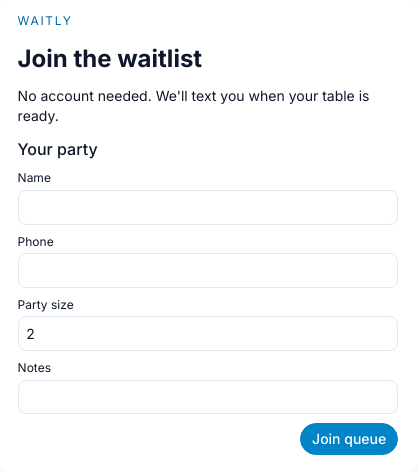
Test: guest join page › lets a guest join the waitlist
This screenshot has width=417, height=472.
Type "Guest" into the field labelled "Name" at (208, 207), box top-left (18, 190), bottom-right (398, 225)
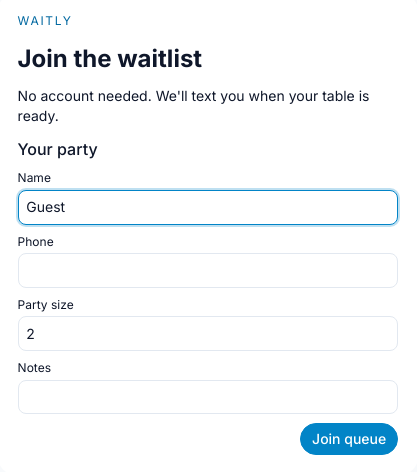
Type "555-0123" into the field labelled "Phone" at (208, 270), box top-left (18, 253), bottom-right (398, 288)
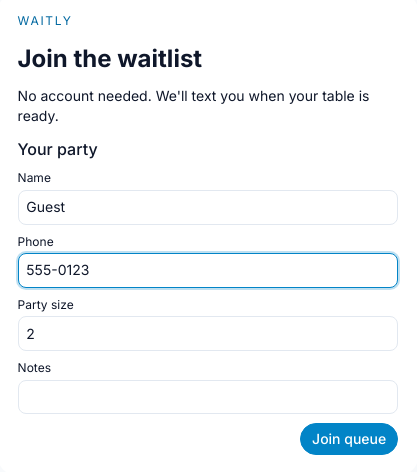
Click the button "Join queue" at (349, 439), box top-left (300, 423), bottom-right (398, 455)
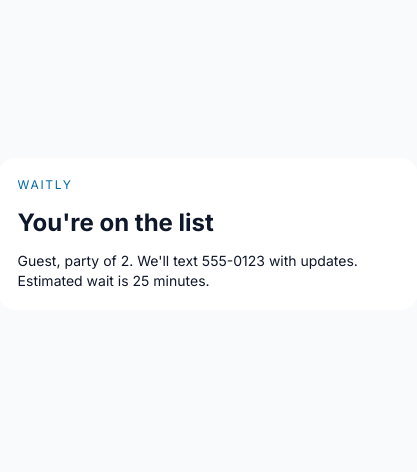
expect the heading "You're on the list" is shown: met, box top-left (18, 208), bottom-right (214, 237)
